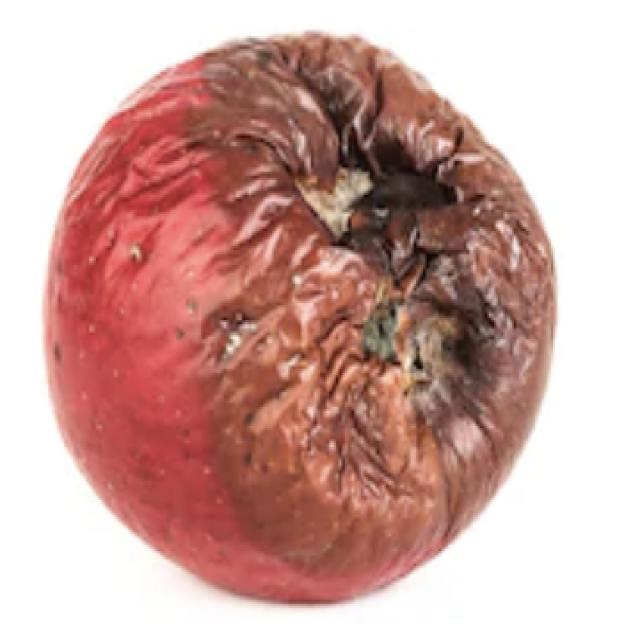Rotten: (74, 58, 508, 592)
